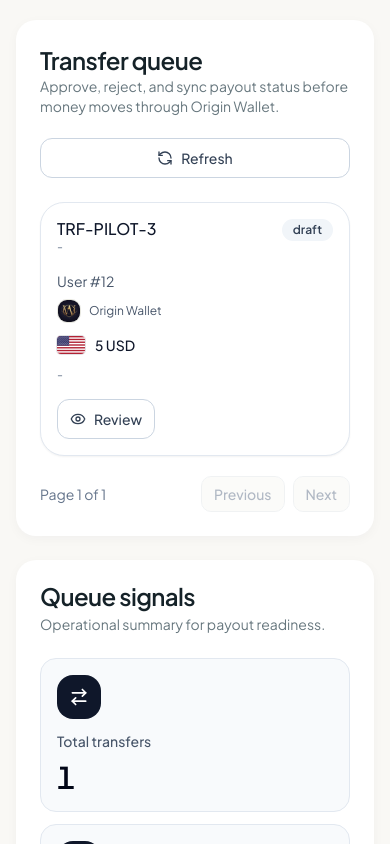
Test: blocks unsafe renewal: expired
The image size is (390, 844).
What coordinates should you click on to do the following:
click the button "Review"
I would click on:
 (106, 419)
Its box is top-left (57, 399), bottom-right (155, 439).
(page scrolled)
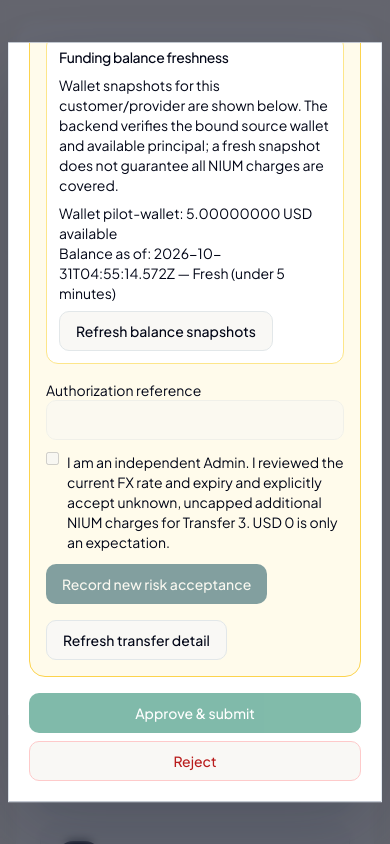
Check: the button "Refresh transfer detail" is enabled, box top-left (46, 620), bottom-right (227, 660)
Check: the button "Record new risk acceptance" is disabled, box top-left (46, 564), bottom-right (267, 604)
Check: the button "Approve & submit" is disabled, box top-left (29, 693), bottom-right (361, 733)
